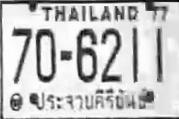0: (35, 28, 56, 82)
1: (154, 27, 162, 82), (131, 27, 138, 82)
2: (100, 27, 121, 82)
6: (76, 27, 96, 82)
7: (11, 27, 32, 83)
PKN: (31, 87, 151, 115)
